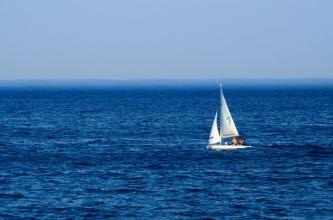fanchuan: (206, 81, 257, 152)
